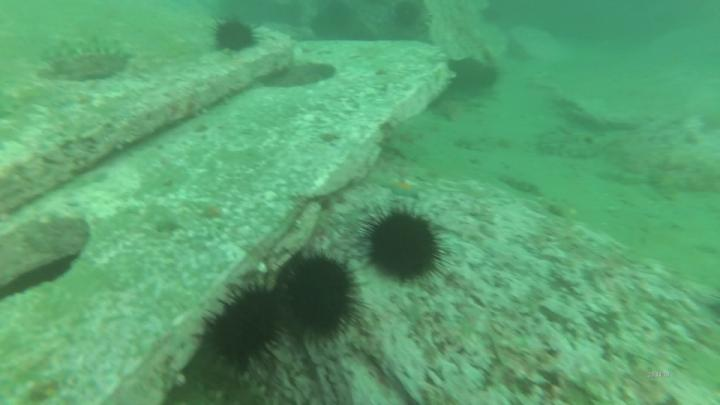echinus: (277, 243, 371, 351), (191, 278, 290, 379), (353, 199, 453, 289), (212, 13, 263, 56)
starfish: (377, 175, 429, 203)
